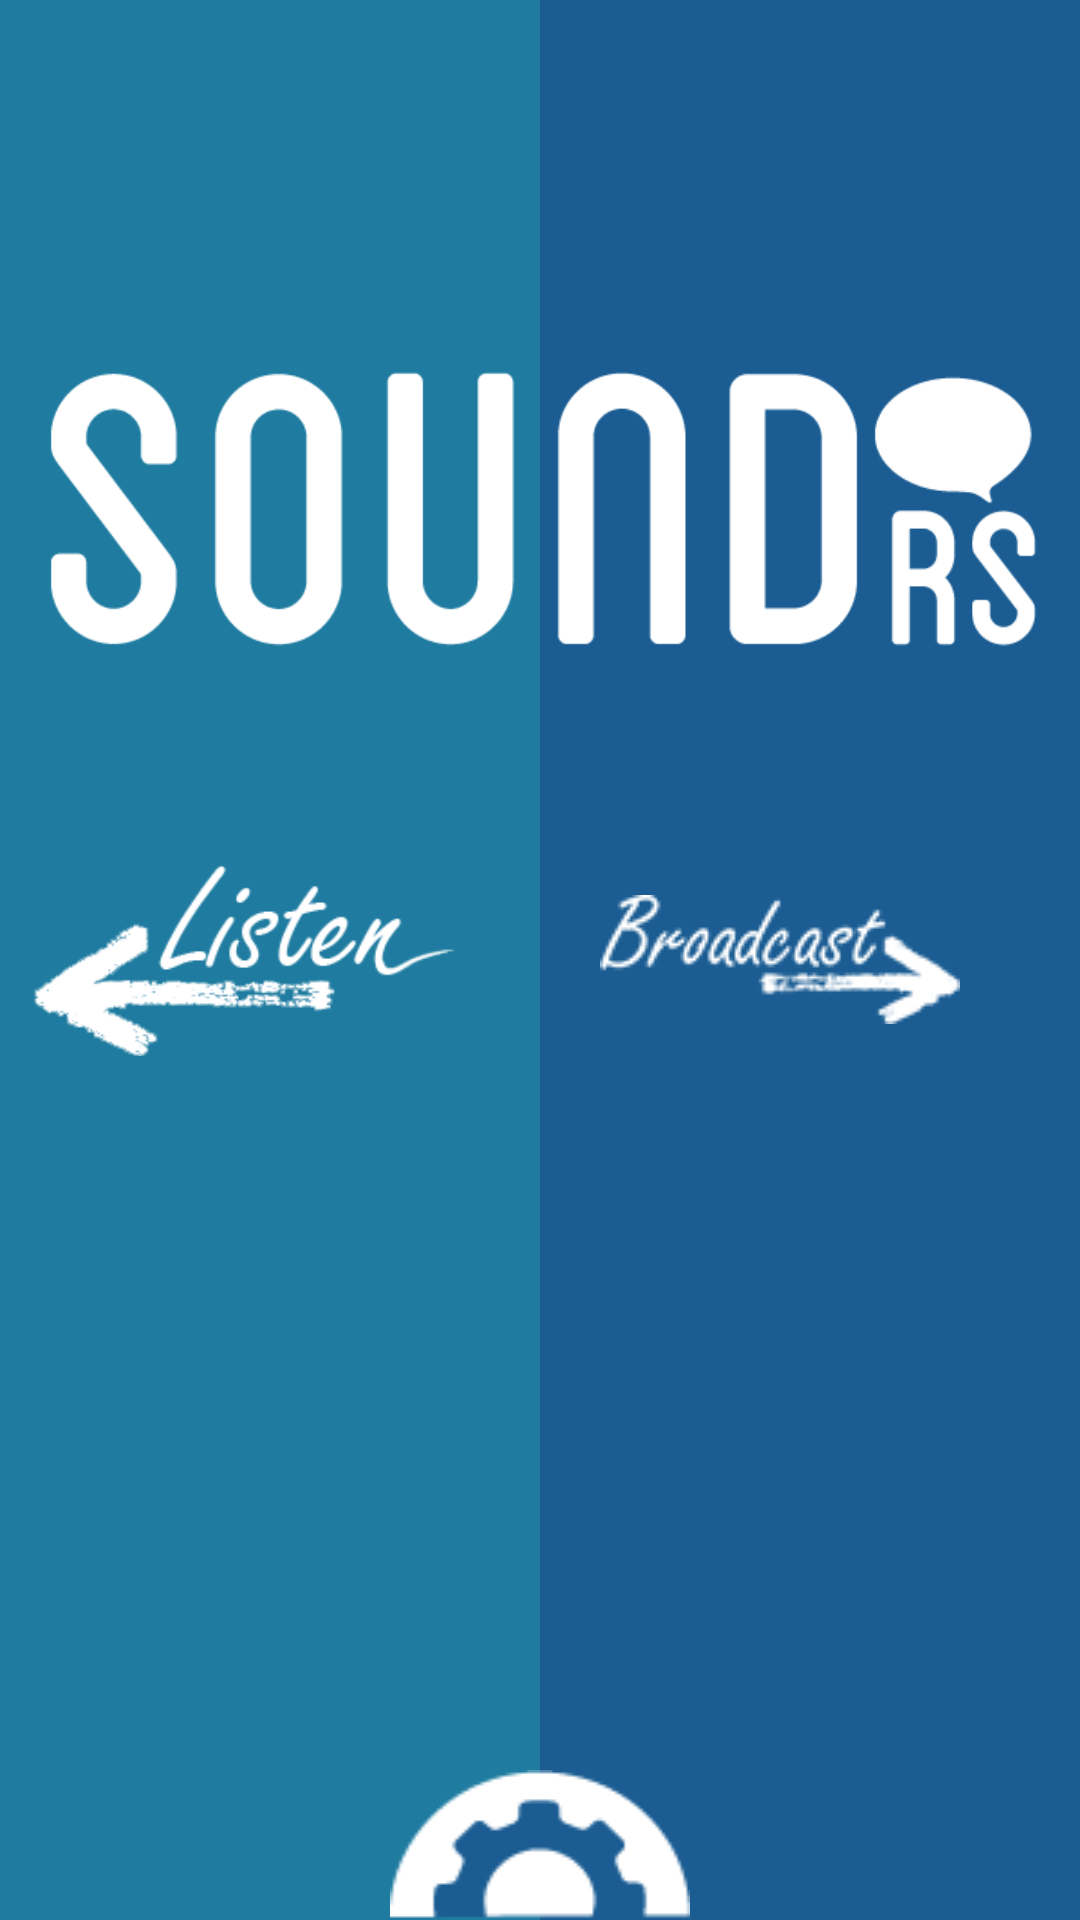

Icons on this 1080px×1920px Android screen, each with the point to tap as point (x, y):
wheel: point (540, 1845)
